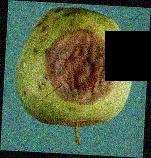rotten apple: (16, 9, 134, 127)
